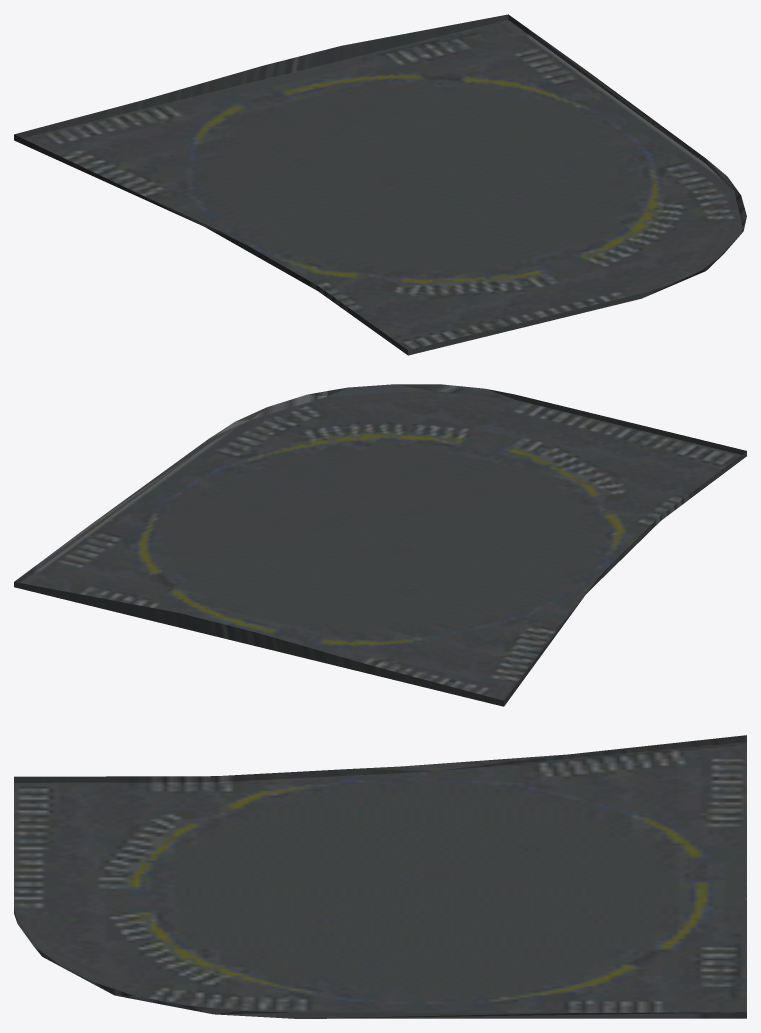
The model's file is lodstadtplaza_lae2.obj.
3 renders of one model, top to bottom at view 1: azimuth 30°, elevation 25°; view 2: azimuth 150°, elevation 25°; view 3: azimuth 270°, elevation 25°, orthographic. The views are drawn at different scales.
Visible parts, largest first — view 1: LODstadtplaza_lae2; view 2: LODstadtplaza_lae2; view 3: LODstadtplaza_lae2.
Part boxes in pixels (x1=…): LODstadtplaza_lae2: x1=14, y1=14, x2=746, y2=355; LODstadtplaza_lae2: x1=14, y1=384, x2=746, y2=706; LODstadtplaza_lae2: x1=14, y1=735, x2=746, y2=1018.
Bounding box in the file's own units: 191 × 5.42 × 213.
Materials: 1 (1 with a texture image).
